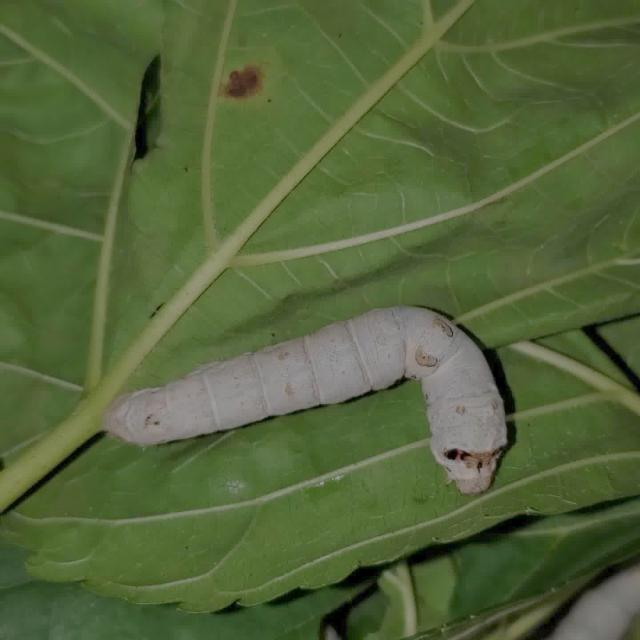Healthy: (89, 296, 513, 508)
